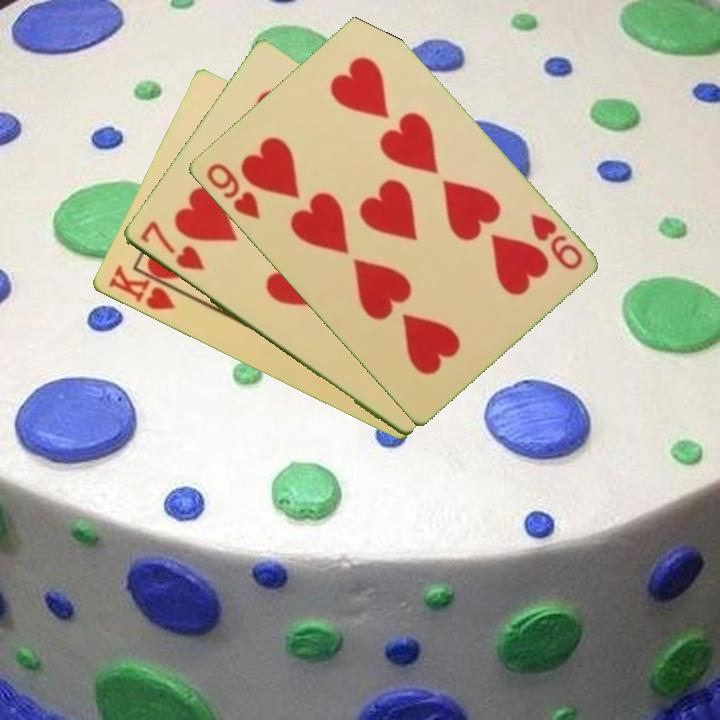7h: (136, 217, 208, 274)
9h: (202, 159, 263, 222), (526, 209, 585, 273)
Kh: (104, 262, 189, 313)
